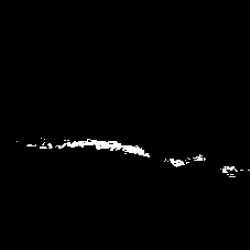crack: (24, 138, 150, 158), (219, 165, 243, 179), (168, 157, 188, 168), (192, 154, 206, 164)
